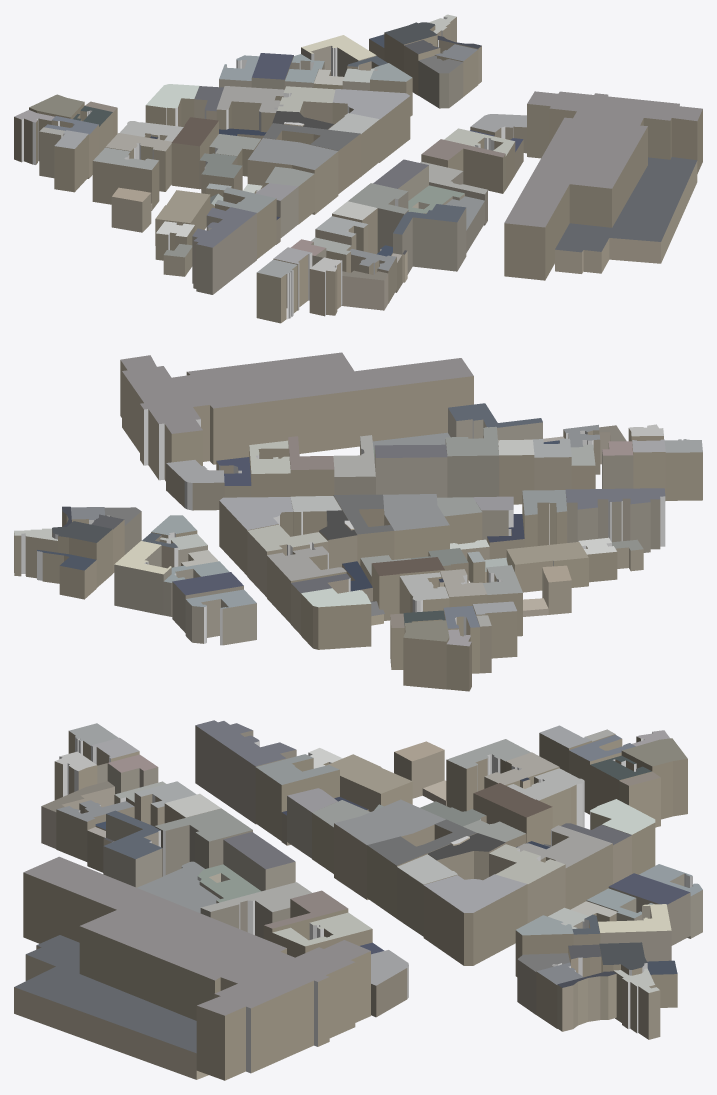
The picture shows the model from 3 angles, top to bottom: view 1: azimuth 30°, elevation 25°; view 2: azimuth 150°, elevation 25°; view 3: azimuth 270°, elevation 25°; orthographic projection. The views are drawn at different scales.
Visible parts, largest first — view 1: tuile; view 2: tuile; view 3: tuile.
Part boxes in pixels (x1,y1,x2,y2): tuile: [14, 14, 702, 323]; tuile: [14, 352, 702, 691]; tuile: [14, 720, 702, 1080].
Size of the model in its own units: 306 by 34.36 by 288.
